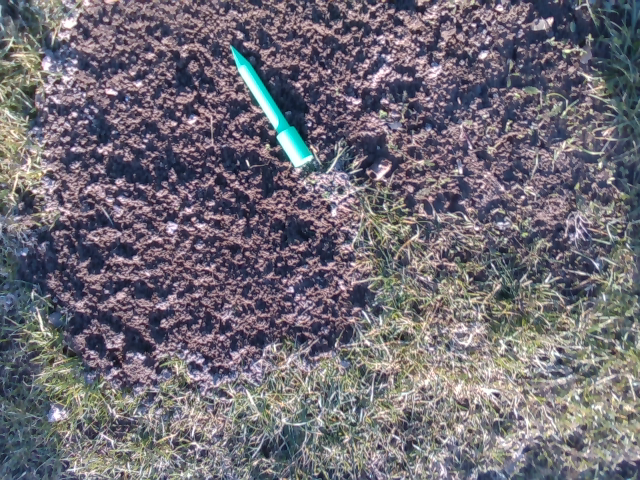Probe: (228, 42, 316, 174)
